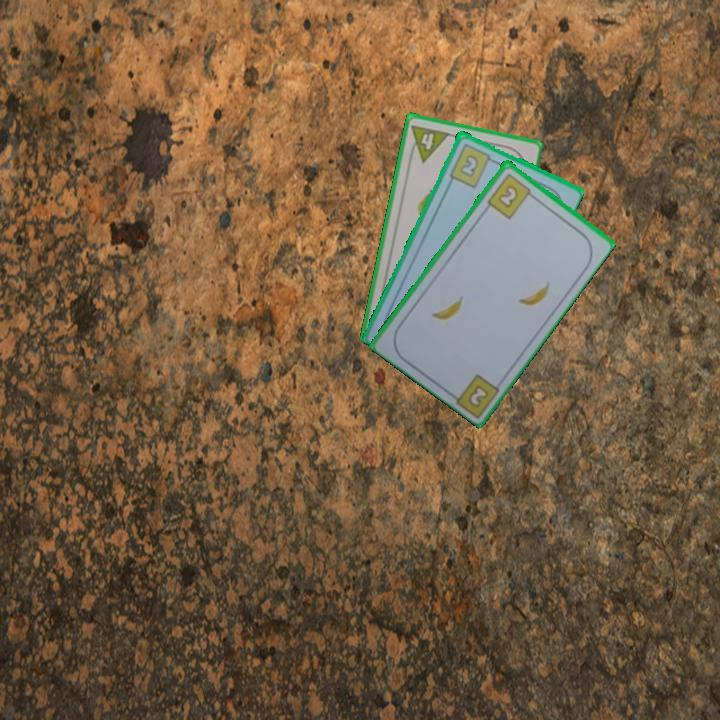2b: (483, 170, 538, 221), (445, 140, 498, 190), (464, 381, 492, 410)
4p: (405, 121, 452, 165)
